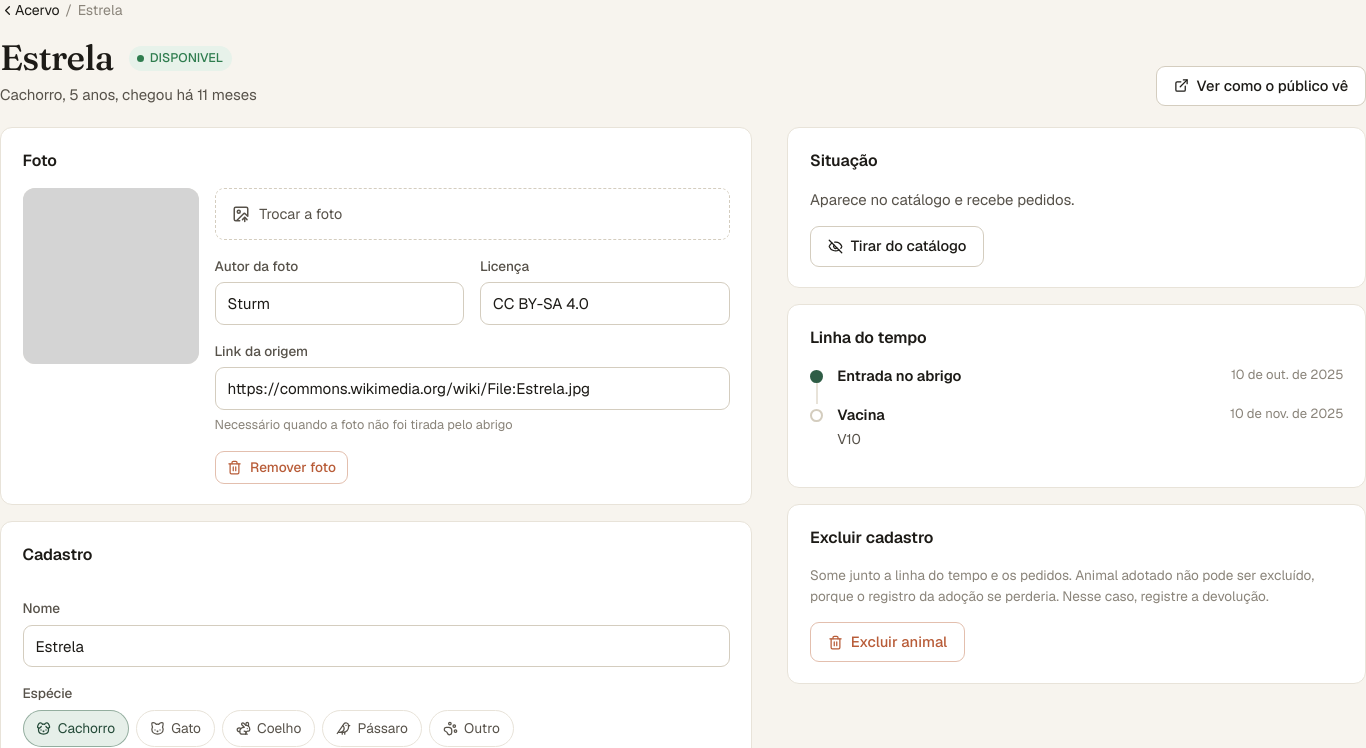
it: gerenciar animal › com o animal DISPONIVEL oferece "Tirar do catálogo"
Click the button "Tirar do catálogo": (897, 246) [810,226,984,267]
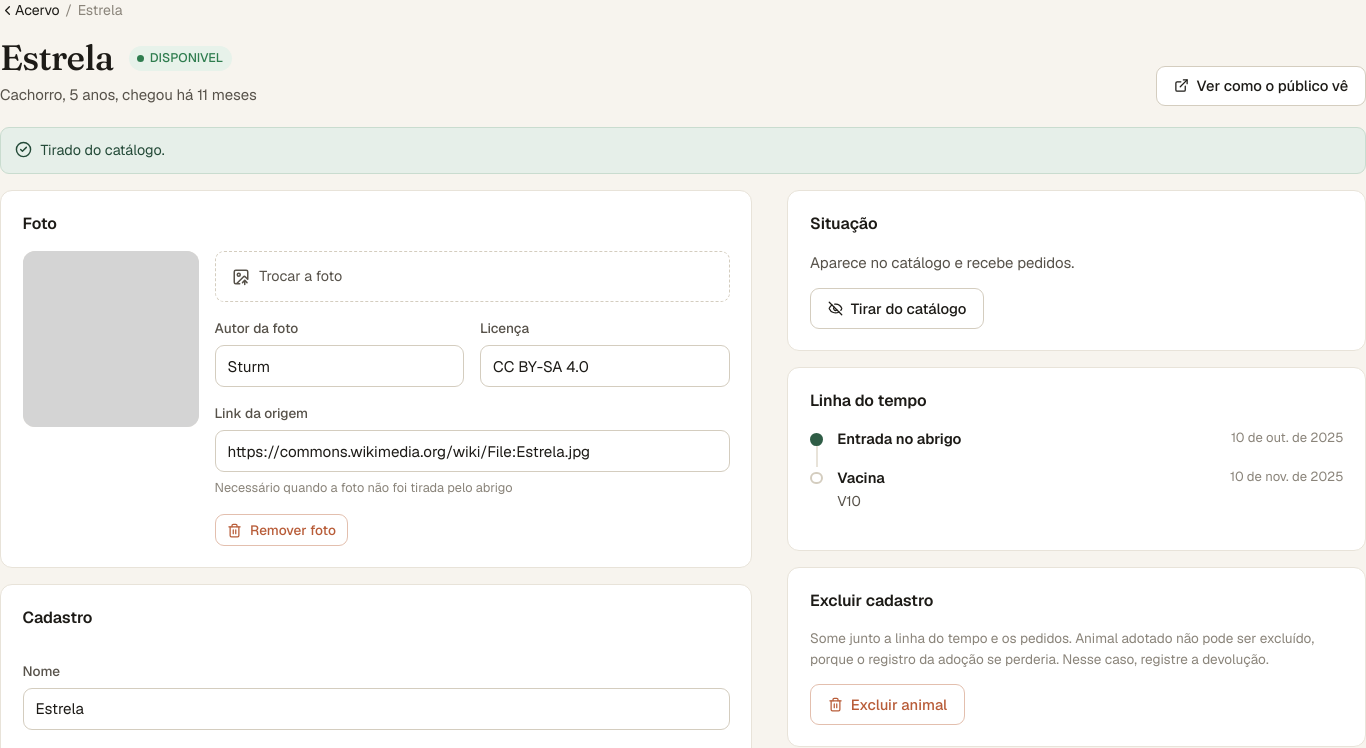
Result: the text "Tirado do catálogo." is shown at [40,139,165,162]
